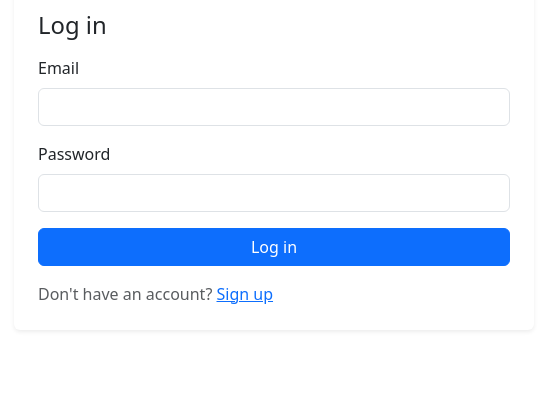
Scenario: LoginPage › displays backend validation errors under fields
The width and height of the screenshot is (549, 399).
Type "test@example.com" into the field labelled "Email". click: (274, 107)
box: [38,88,510,126]
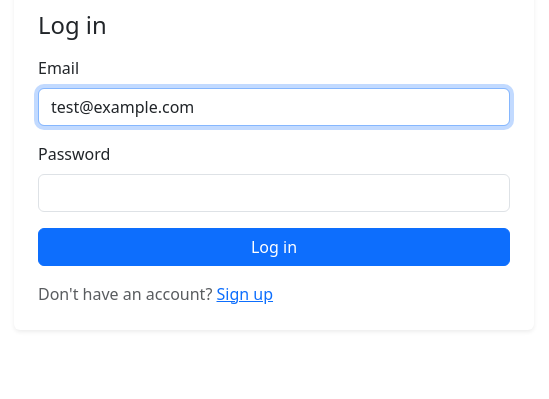
Type "password123" into the password field labelled "Password". click: (274, 193)
box: [38,174,510,212]
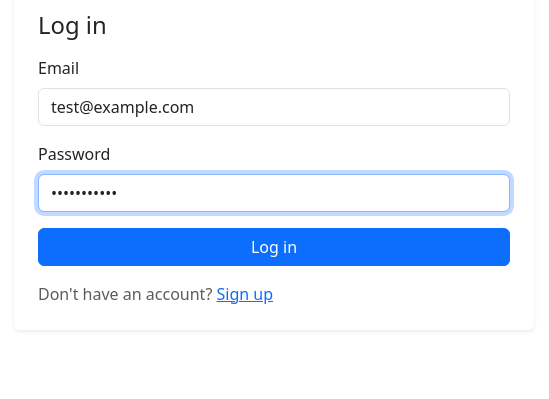
Click the button "Log in". click: (274, 247)
box: [38,228,510,266]
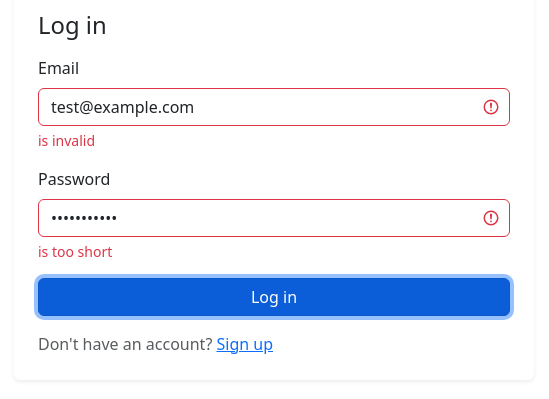
Result: the text "is invalid" is shown at [38,131,95,150]
Result: the text "is too short" is shown at [38,242,112,261]
